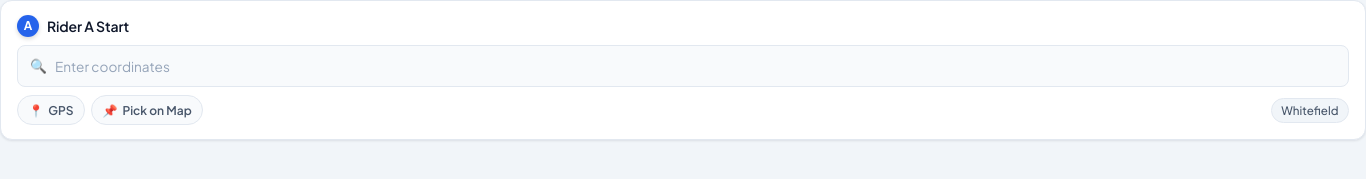
it: LocationInput › displays user-friendly error when GPS permission is denied
Click the button with aria-label "use my current location".
click(51, 110)  # box [17,95,85,125]
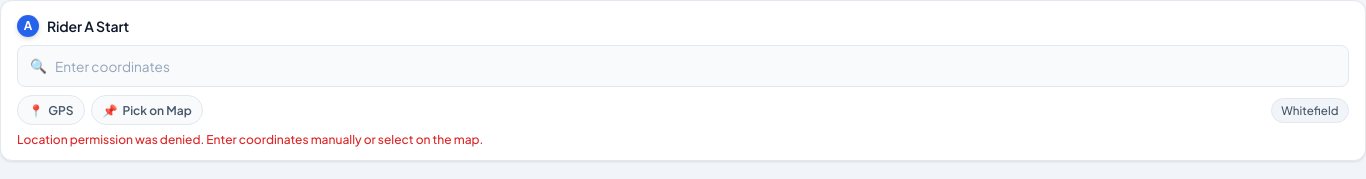
Result: the message shows "Location permission was denied" at [17,132,483,147]
